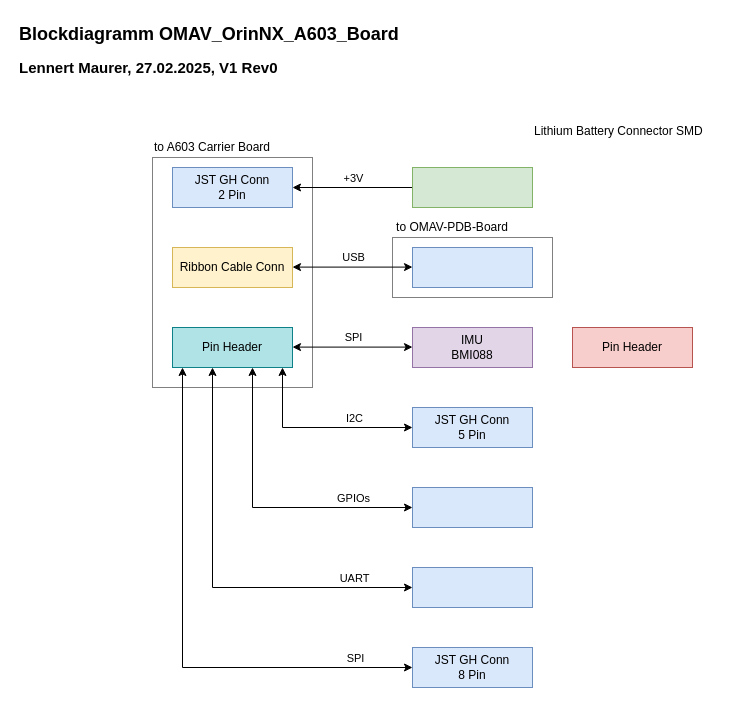
Image size: 749x705. Some labels were removed from this diagram. Each missing label, with the centre of its shape:
"JST GH Conn ( 3 Pin)" belongs at (472,267).
"JST GH Conn 6 Pin" belongs at (472,507).
"JST GH Conn 7 Pin" belongs at (472,587).
"Lithium Battery Connector (Clip)" belongs at (472,187).
